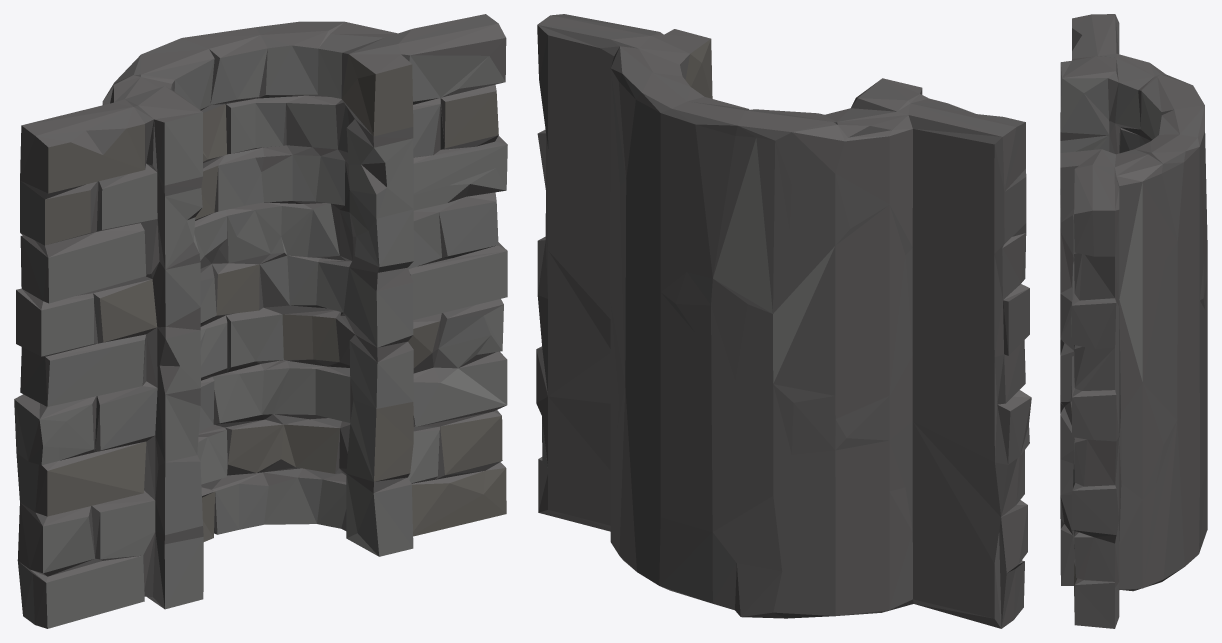
The model's file is SM_Env_Wall_Alcove_Small_02.FBX.
3 views of the same model, side by side, from view 1: azimuth 30°, elevation 25°; view 2: azimuth 150°, elevation 25°; view 3: azimuth 270°, elevation 25° (orthographic). The views are drawn at different scales.
Parts seen in each view (by area): view 1: SM_Env_Wall_Alcove_Small_02; view 2: SM_Env_Wall_Alcove_Small_02; view 3: SM_Env_Wall_Alcove_Small_02.
Part boxes in pixels (x1,y1,x2,y2): SM_Env_Wall_Alcove_Small_02: [14, 14, 507, 628]; SM_Env_Wall_Alcove_Small_02: [536, 14, 1031, 628]; SM_Env_Wall_Alcove_Small_02: [1060, 14, 1207, 628].
Size of what is drawn, in the model's own units: 518 by 163 by 520.
